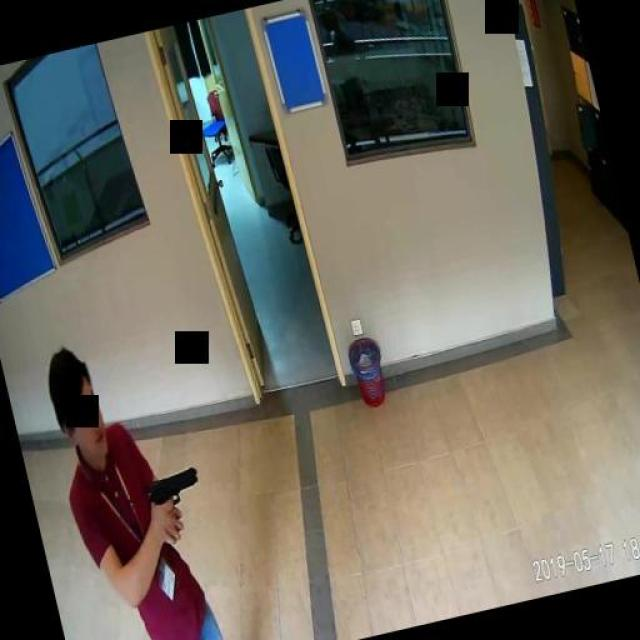gun: (144, 465, 208, 533)
